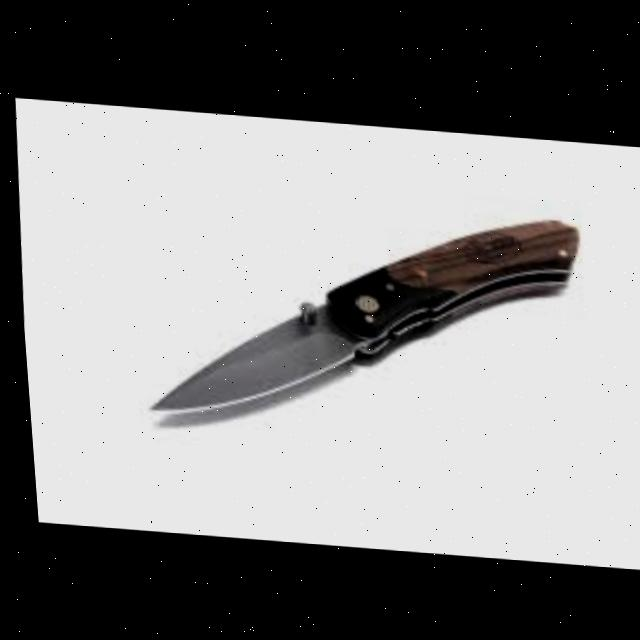Knife: (127, 180, 589, 449)
